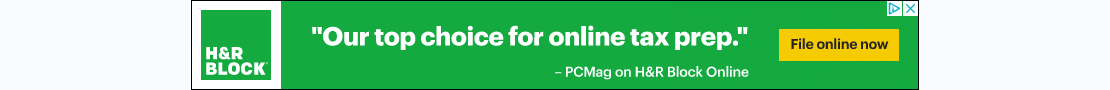fake_button: (764, 10, 905, 74), (856, 0, 918, 18)
